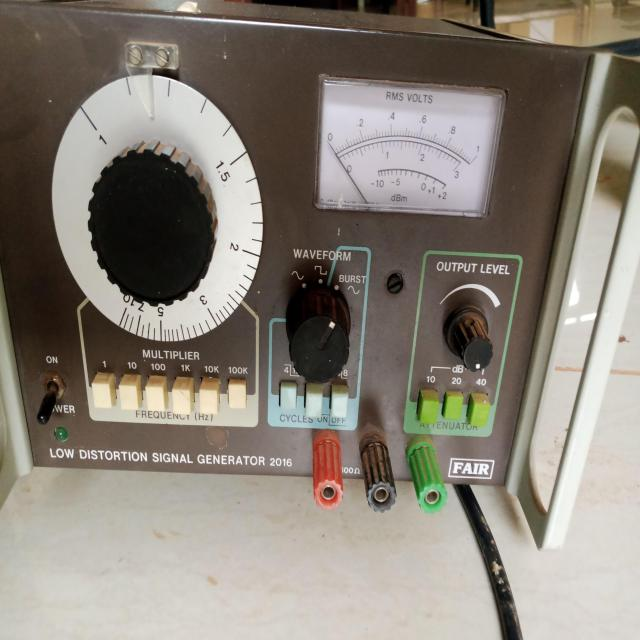Low Distortion Signal Generator: (1, 21, 626, 545)
